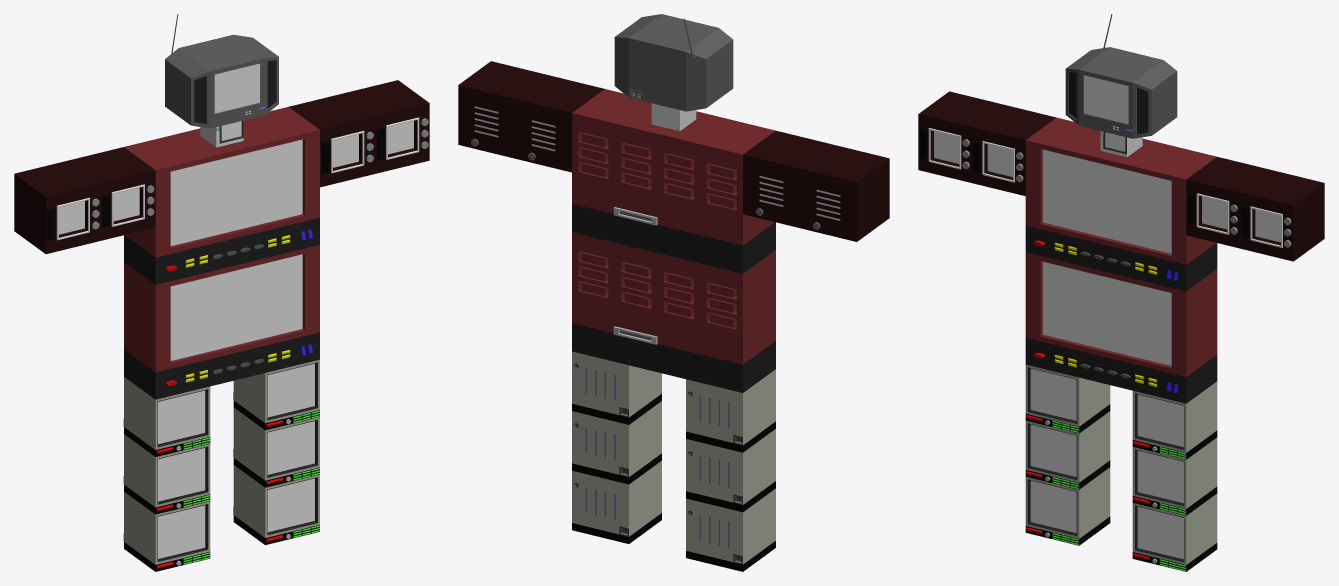
Rendered from buddy.glb.
The picture shows the model from 3 angles, left to right: view 1: azimuth 30°, elevation 25°; view 2: azimuth 150°, elevation 25°; view 3: azimuth 330°, elevation 25°; orthographic projection. The views are drawn at different scales.
Visible parts, largest first — view 1: main, body1, body2, leg1, leg6, leg4, leg2, leg3, leg5, face, arm2, arm1 (+2 smaller); view 2: main; view 3: main, body1, body2, leg5, leg1, leg3, leg2, leg4, leg6, face, arm4, arm2 (+2 smaller).
Part boxes in pixels (bbox=[...]): main: bbox=[14, 14, 429, 571]; body1: bbox=[170, 139, 302, 246]; body2: bbox=[170, 254, 302, 360]; leg1: bbox=[158, 390, 205, 444]; leg6: bbox=[267, 478, 314, 532]; leg4: bbox=[267, 363, 314, 417]; leg2: bbox=[158, 448, 205, 501]; leg3: bbox=[158, 505, 205, 558]; leg5: bbox=[267, 421, 314, 474]; face: bbox=[214, 63, 260, 113]; arm2: bbox=[113, 187, 139, 221]; arm1: bbox=[59, 201, 84, 234]; main: bbox=[458, 14, 889, 571]; main: bbox=[918, 14, 1324, 571]; body1: bbox=[1042, 149, 1171, 253]; body2: bbox=[1042, 261, 1171, 365]; leg5: bbox=[1137, 450, 1183, 503]; leg1: bbox=[1030, 368, 1076, 420]; leg3: bbox=[1030, 480, 1076, 532]; leg2: bbox=[1030, 424, 1076, 476]; leg4: bbox=[1137, 394, 1183, 446]; leg6: bbox=[1137, 507, 1183, 559]; face: bbox=[1084, 75, 1128, 123]; arm4: bbox=[1255, 209, 1280, 242]; arm2: bbox=[987, 144, 1012, 176].
Size of the model in its own units: 7 by 9.06 by 1.11.
